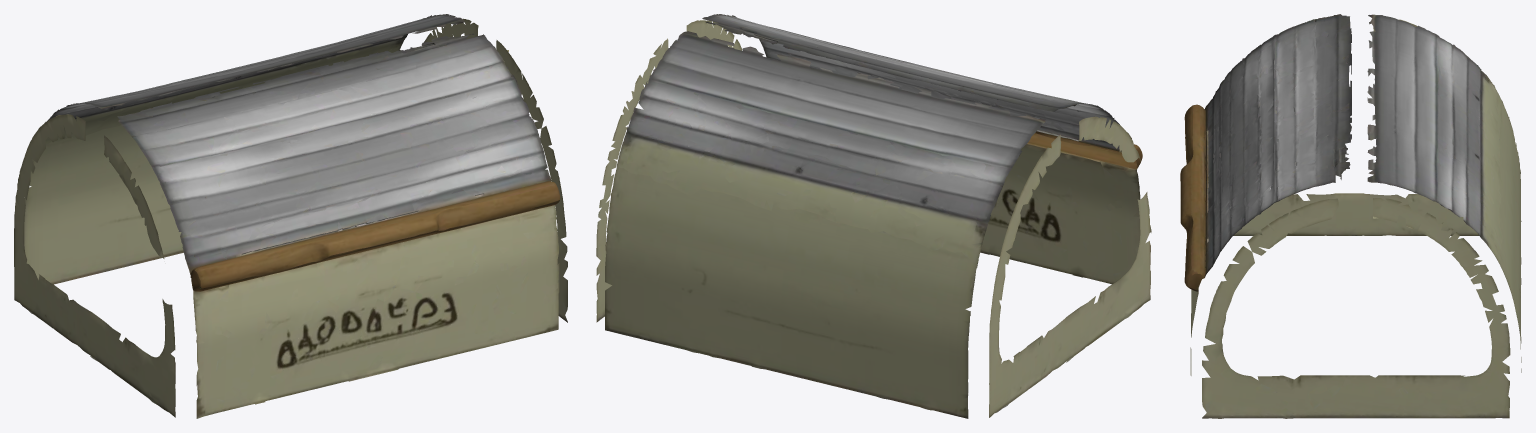
The model's file is lid.glb.
3 views of the same model, side by side, from view 1: azimuth 30°, elevation 25°; view 2: azimuth 150°, elevation 25°; view 3: azimuth 270°, elevation 25° (orthographic). The views are drawn at different scales.
Visible parts, largest first — view 1: world; view 2: world; view 3: world.
Part boxes in pixels (x1,y1,x2,y2): world: (14, 14, 567, 418); world: (596, 14, 1151, 418); world: (1180, 14, 1521, 418).
Bounding box in the file's own units: 0.4314 × 0.2523 × 0.3391.
1 material, 1 textured.
